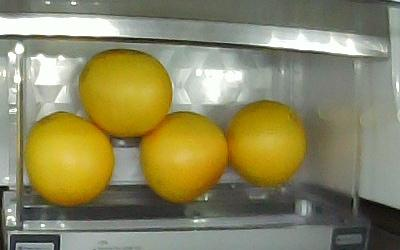grapefruit: (25, 112, 114, 206), (80, 49, 173, 138), (139, 111, 228, 203), (226, 100, 308, 189)
